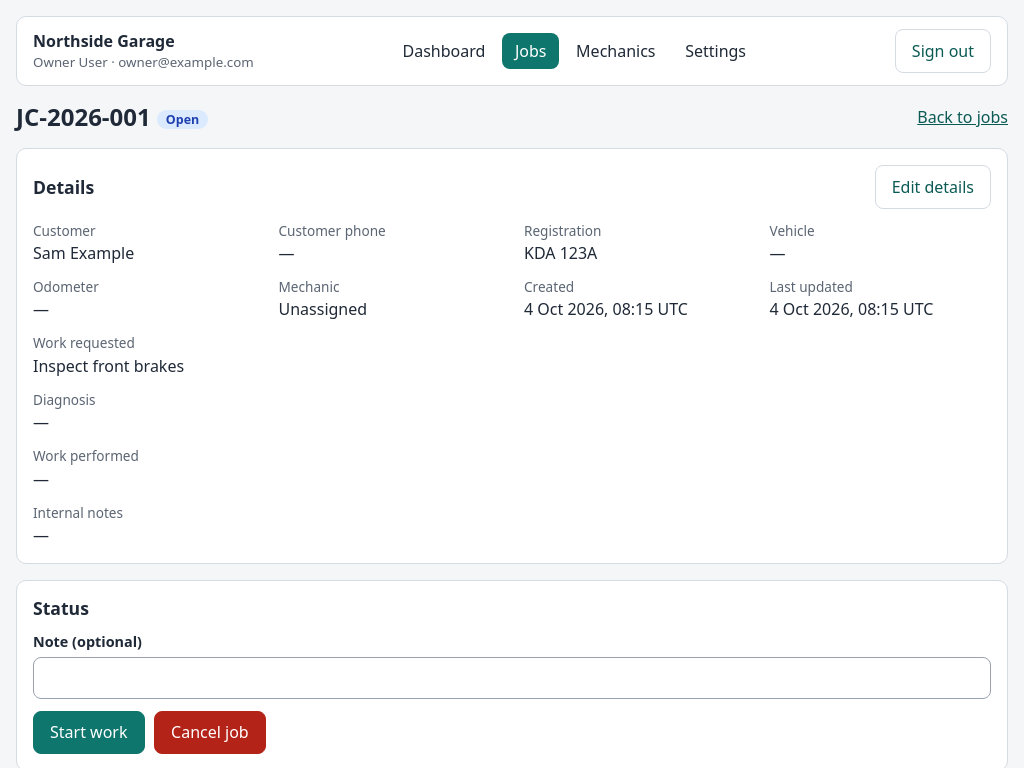
GOSSA owner app › requires confirmation before cancelling a job
Click the button "Cancel job" at {"x": 210, "y": 732}, box [154, 710, 266, 754]
(page scrolled)
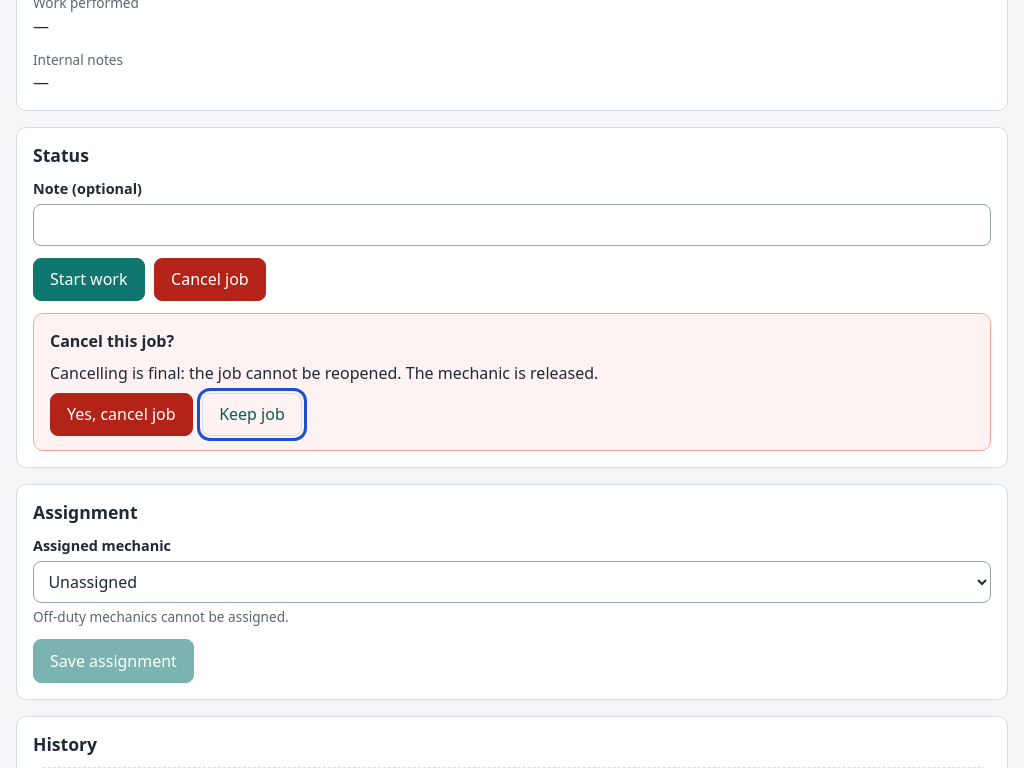
Click the button "Keep job" at {"x": 252, "y": 414}, box [202, 392, 302, 436]
(page scrolled)
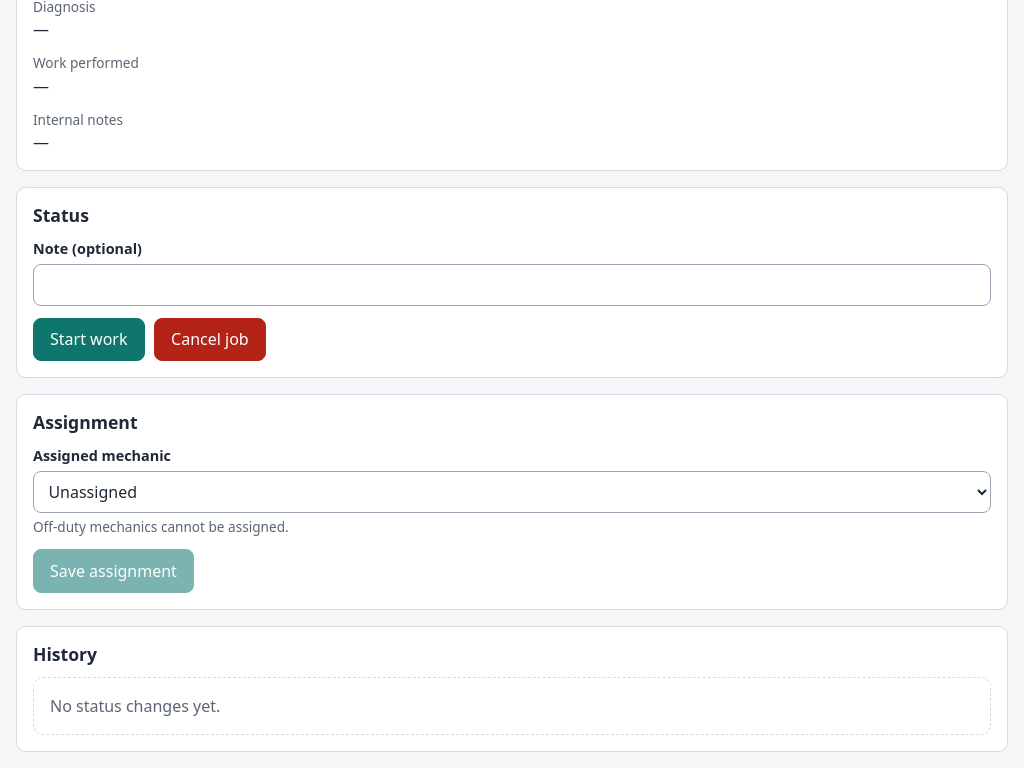
expect the dialog is gone: met
Click the button "Cancel job" at {"x": 210, "y": 339}, box [154, 318, 266, 361]
(page scrolled)
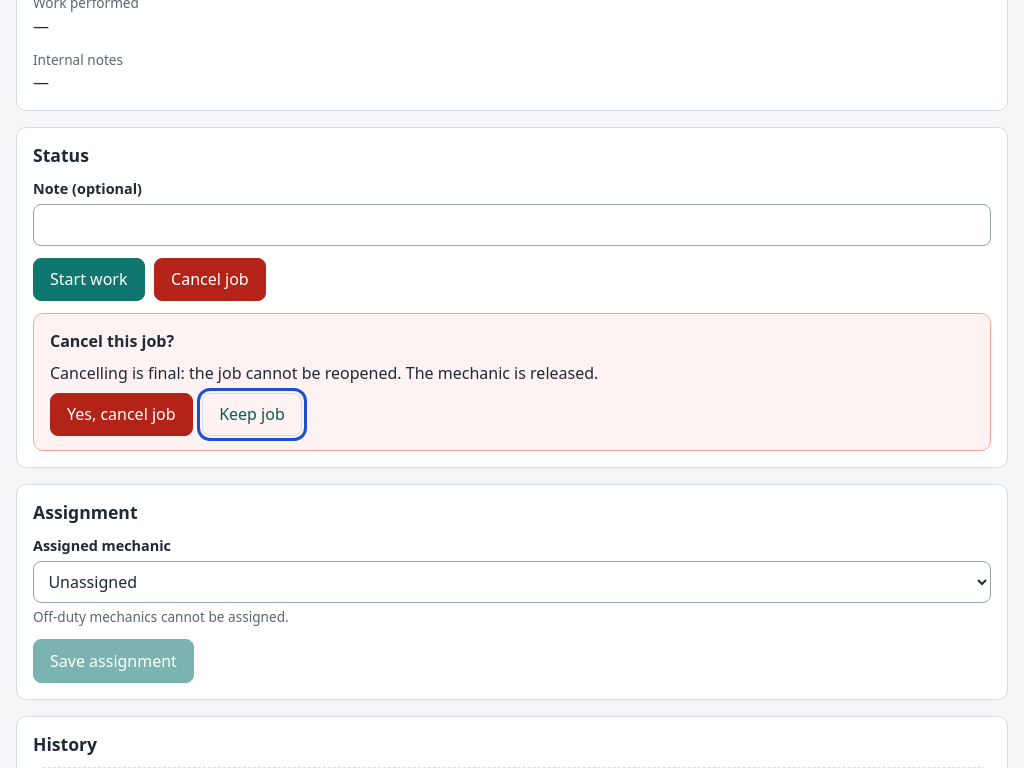
Click the button "Yes, cancel job" at {"x": 121, "y": 414}, box [50, 392, 193, 436]
(page scrolled)
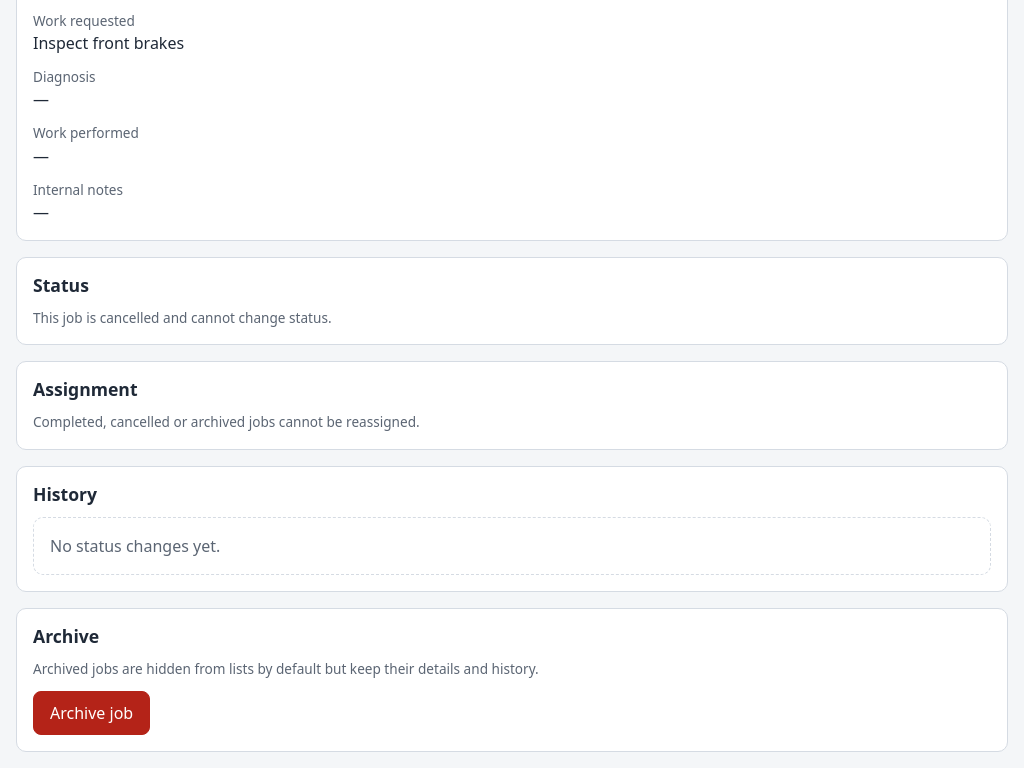
expect the button "Archive job" is shown: met, box [33, 691, 150, 735]
